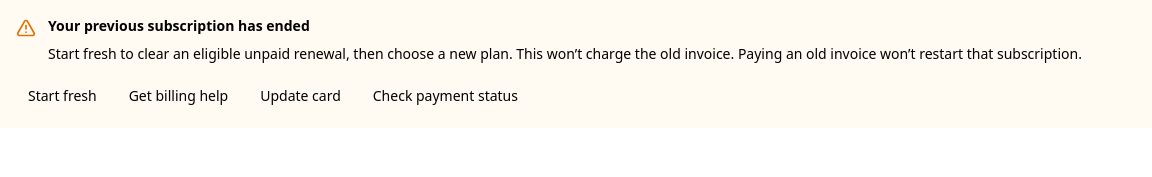
preserves status-check feedback for non-renewal recovery ({"hasActiveSubscription":false,"cancelAtPeriodEnd":false,"checkoutRequiresReview":true})
The image size is (1152, 177).
Click the button "Check payment status".
click(445, 96)  # box [361, 80, 530, 112]
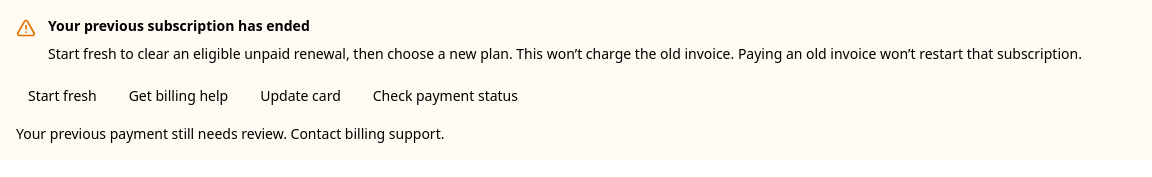
Now the text "Your previous payment still needs review. Contact billing support." is shown, box [16, 124, 444, 143]
